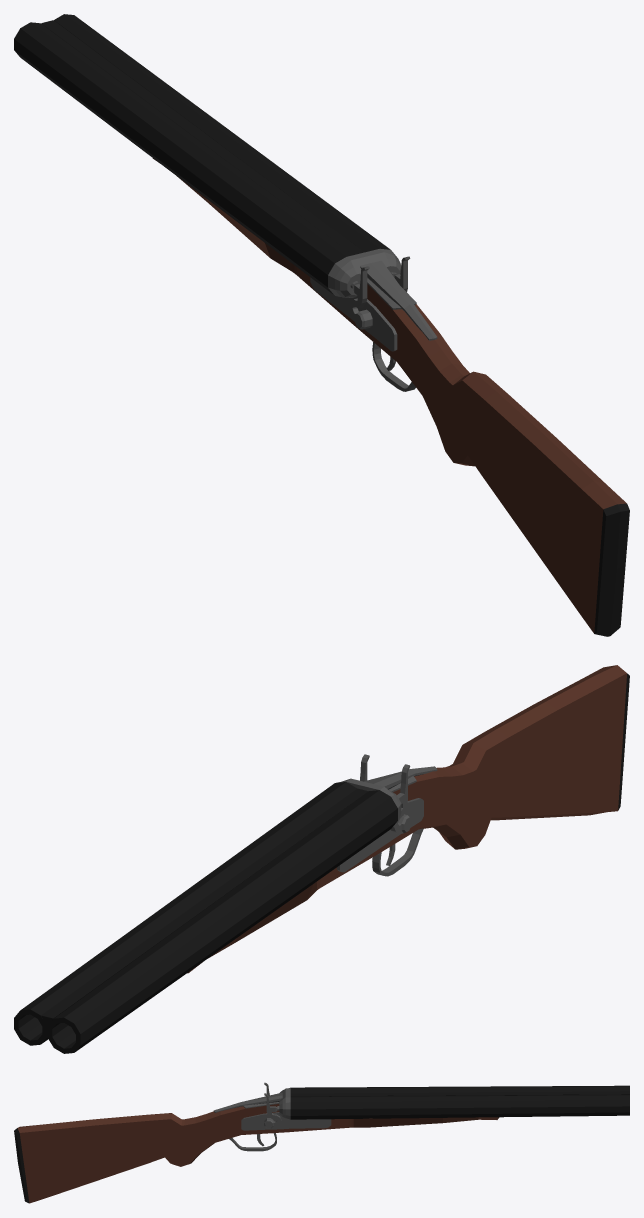
Rendered from Double Barrel Shotgun-2.glb.
The picture shows the model from 3 angles, top to bottom: view 1: azimuth 30°, elevation 25°; view 2: azimuth 150°, elevation 25°; view 3: azimuth 270°, elevation 25°; orthographic projection. The views are drawn at different scales.
Visible parts, largest first — view 1: Double Barrel Shotgun-2; view 2: Double Barrel Shotgun-2; view 3: Double Barrel Shotgun-2.
Boxes of the visible parts, x1,y1,x2,y2 form: Double Barrel Shotgun-2: (14,14,629,636); Double Barrel Shotgun-2: (14,665,629,1053); Double Barrel Shotgun-2: (14,1082,629,1203).
Bounding box in the file's own units: 9.51 × 27.72 × 135.
